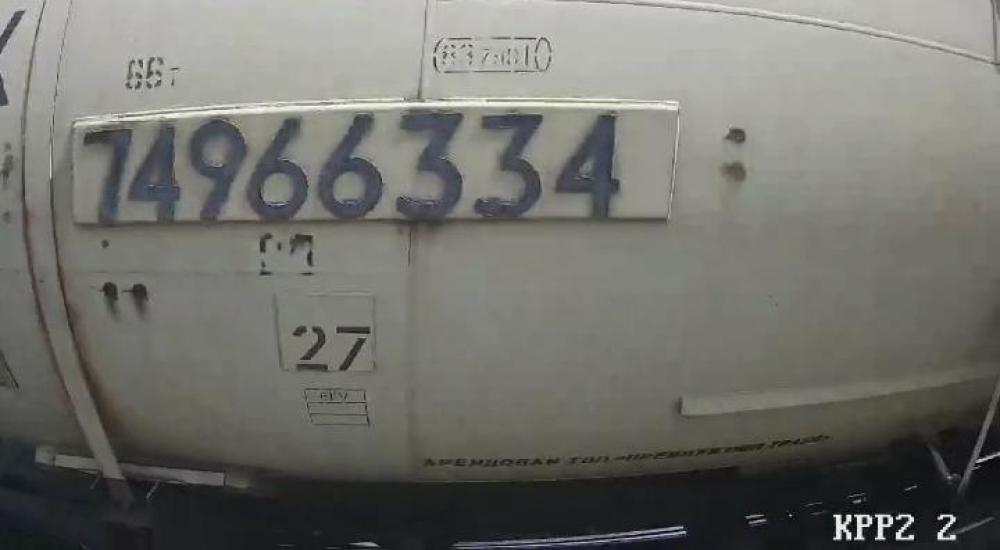Wagon-number: (71, 108, 630, 231)
